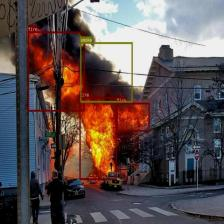fire: (28, 31, 84, 111), (79, 96, 117, 180), (116, 102, 150, 131)
smoke: (80, 42, 132, 102)
